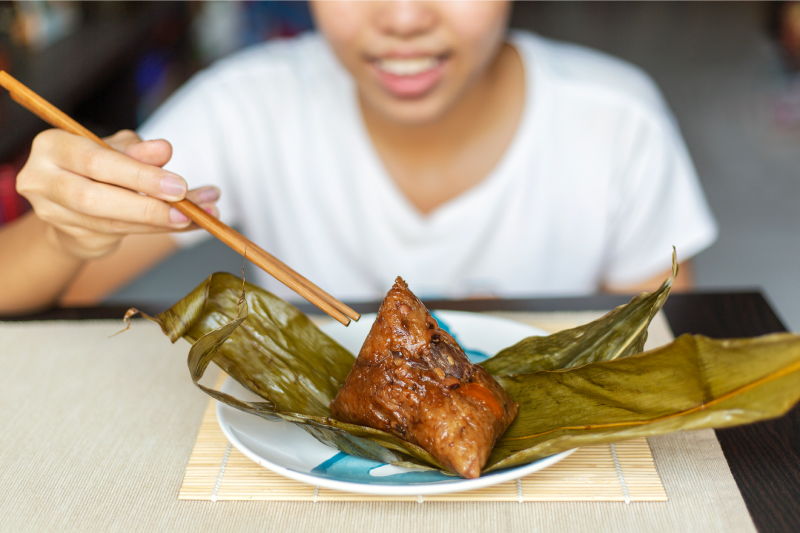zongzi: (330, 278, 517, 477)
